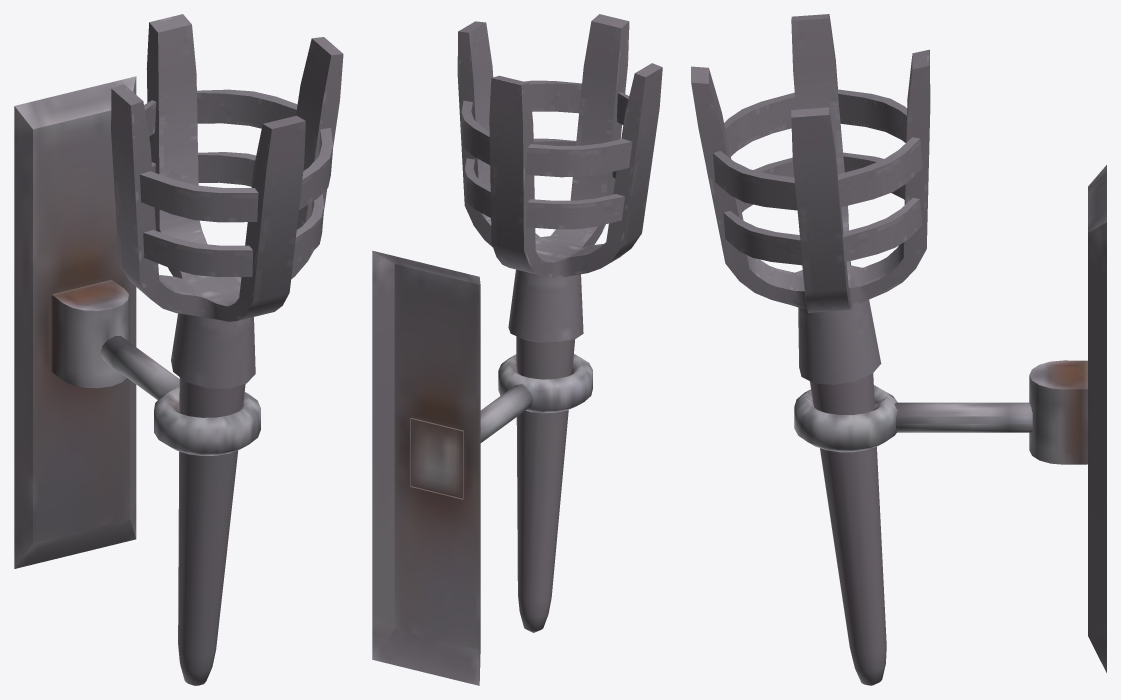
File: Torch_Metal.glb
The picture shows the model from 3 angles, left to right: view 1: azimuth 30°, elevation 25°; view 2: azimuth 150°, elevation 25°; view 3: azimuth 270°, elevation 25°; orthographic projection. The views are drawn at different scales.
Parts seen in each view (by area): view 1: Torch_Metal; view 2: Torch_Metal; view 3: Torch_Metal.
Part boxes in pixels (<box>): Torch_Metal: <box>14,14,343,685</box>; Torch_Metal: <box>372,14,662,685</box>; Torch_Metal: <box>691,14,1106,685</box>.
Bounding box in the file's own units: 0.2231 × 0.6482 × 0.3884.
Materials: 1 (1 with a texture image).
